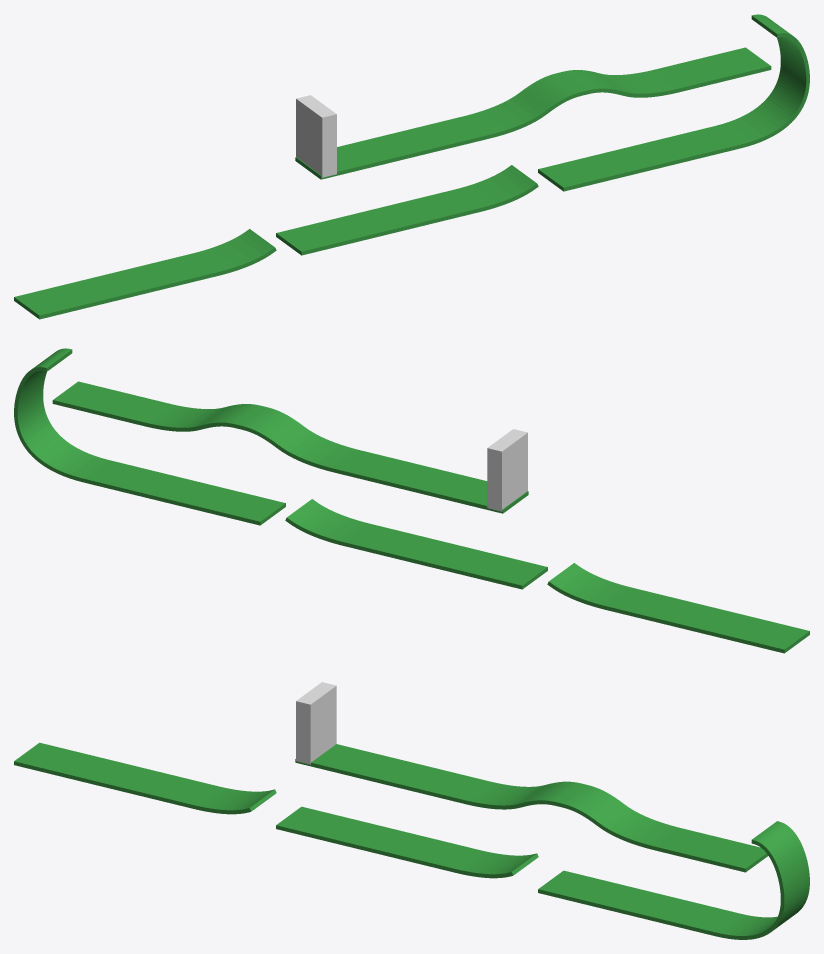
Rendered from track_test.glb.
The picture shows the model from 3 angles, top to bottom: view 1: azimuth 30°, elevation 25°; view 2: azimuth 150°, elevation 25°; view 3: azimuth 330°, elevation 25°; orthographic projection.
Parts seen in each view (by area): view 1: path10392, path1194-1-5, path1194, path1194-1, Cube; view 2: path10392, path1194-1-5, path1194, path1194-1, Cube; view 3: path10392, path1194-1-5, path1194-1, path1194, Cube.
Part boxes in pixels (left/top/right/bottom): path10392: left=295, top=47, right=771, bottom=179; path1194-1-5: left=538, top=14, right=809, bottom=191; path1194: left=14, top=229, right=276, bottom=319; path1194-1: left=276, top=165, right=538, bottom=255; Cube: left=296, top=95, right=336, bottom=177; path10392: left=52, top=381, right=528, bottom=513; path1194-1-5: left=14, top=348, right=285, bottom=525; path1194: left=547, top=563, right=809, bottom=653; path1194-1: left=285, top=499, right=547, bottom=589; Cube: left=487, top=429, right=527, bottom=511; path10392: left=295, top=744, right=768, bottom=872; path1194-1-5: left=538, top=821, right=809, bottom=939; path1194-1: left=276, top=806, right=538, bottom=878; path1194: left=14, top=742, right=276, bottom=814; Cube: left=296, top=682, right=336, bottom=764.
Size of the model in its own units: 525 by 86.71 by 30.84.
